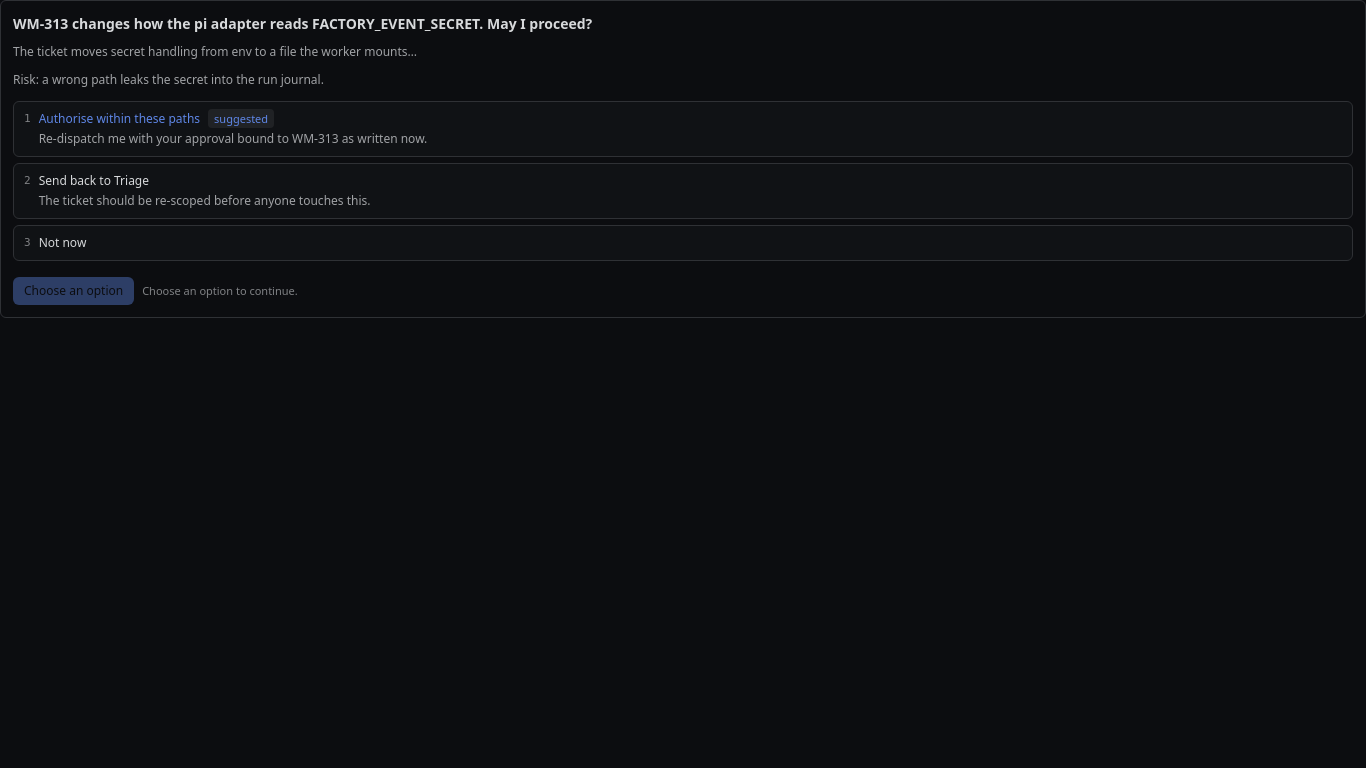
Test case: DecisionCard › keeps submit disabled until confirmation and at least one path are chosen
Click the button that starts with "Authorise within these paths" at (119, 118), box [13,101,1353,157]
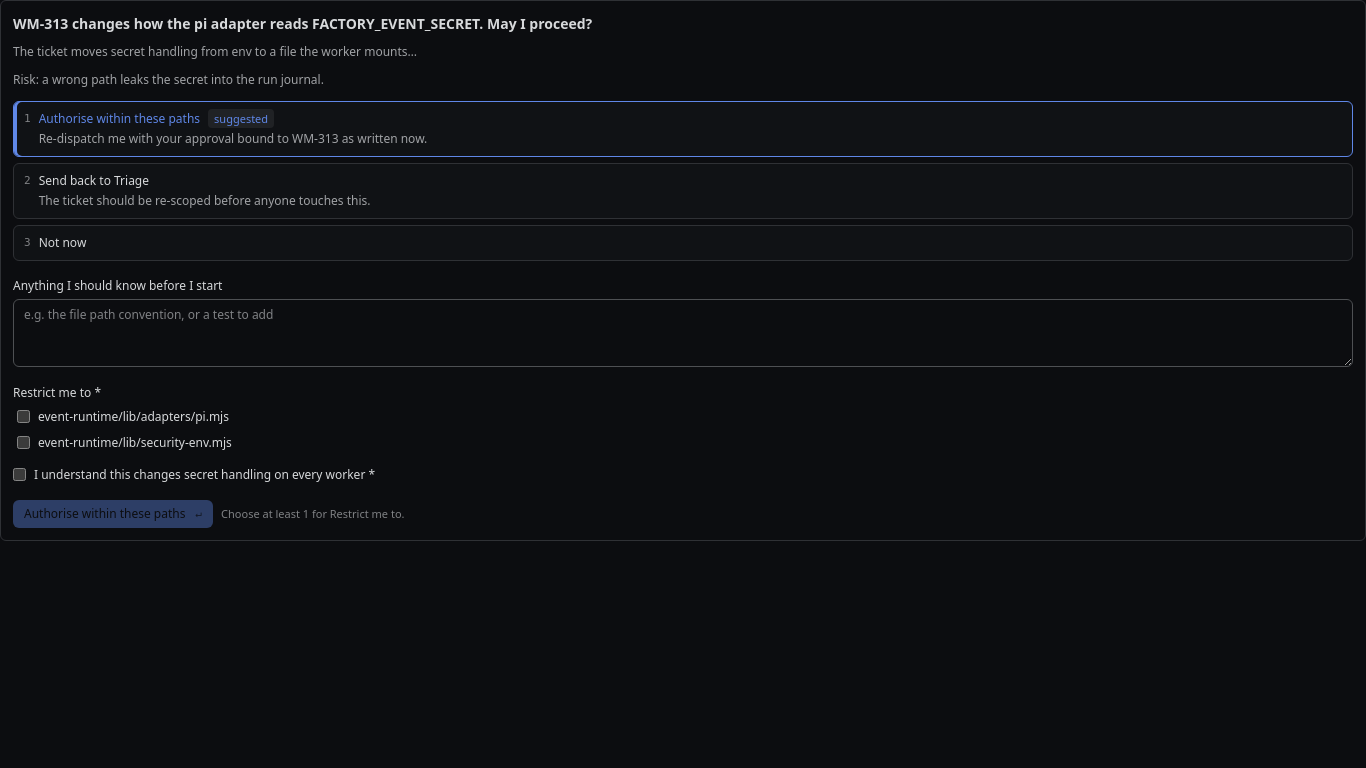
Expected: the button "Authorise within these paths ↵" is disabled, [13,500,213,528]
Click the checkbox labelled "event-runtime/lib/adapters/pi.mjs" at (24, 416), box [17,410,30,423]
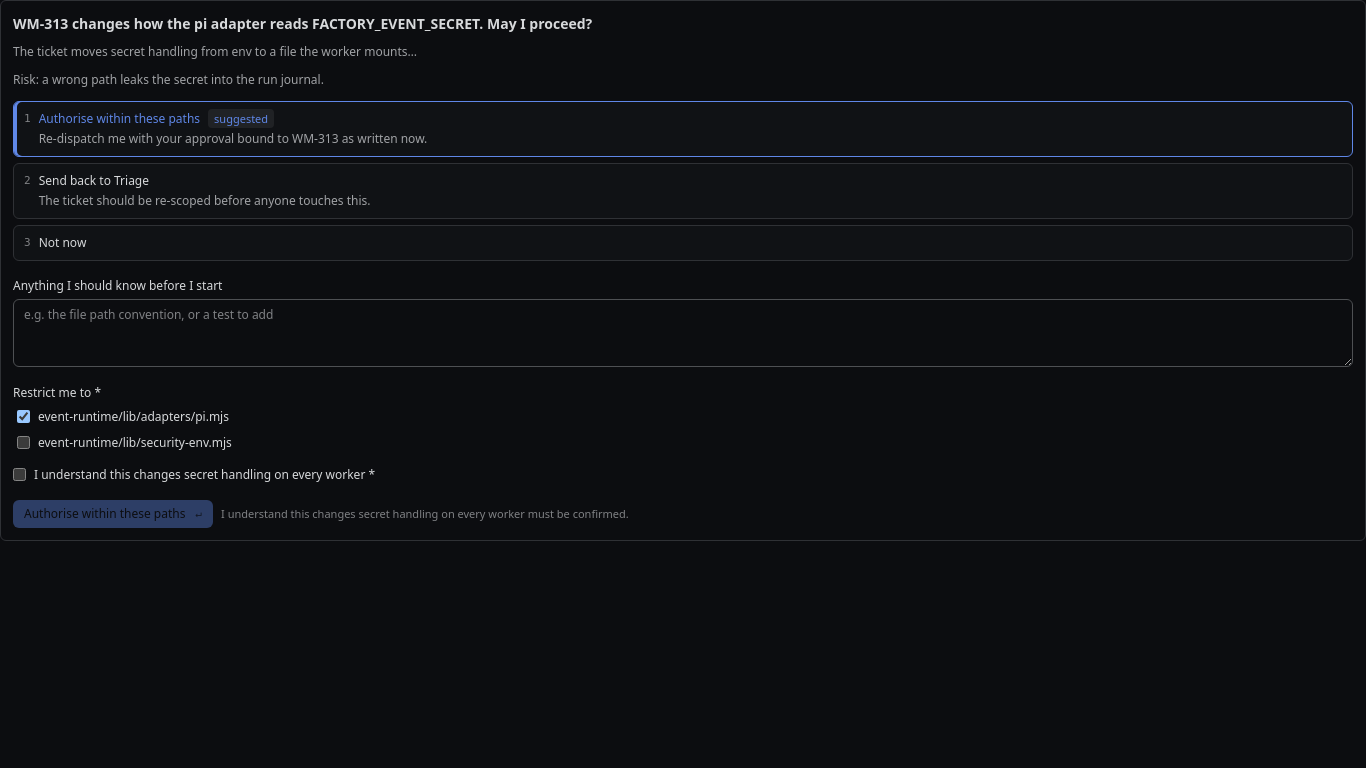
Expected: the button "Authorise within these paths ↵" is disabled, [13,500,213,528]
Click the checkbox labelled "I understand this changes secret handling on every worker *" at (20, 474), box [13,468,26,481]
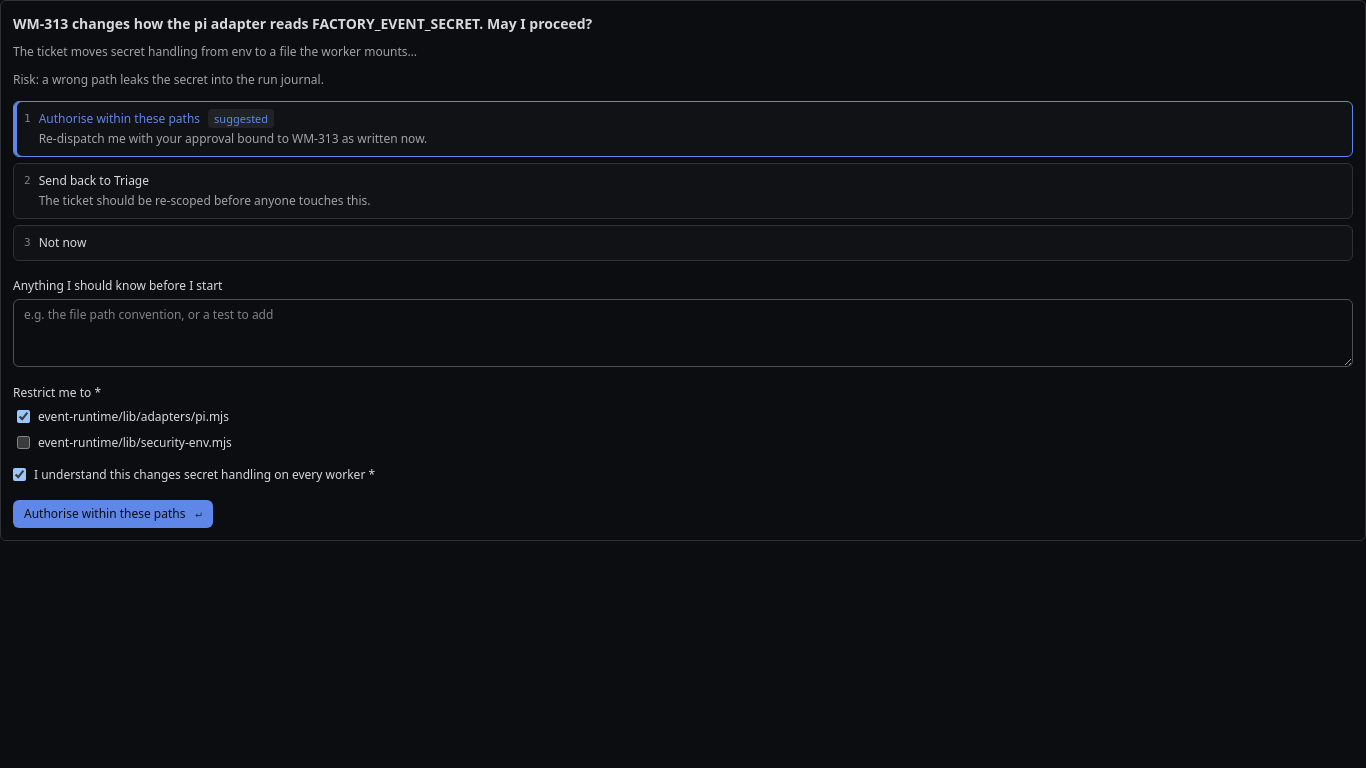
Now the button "Authorise within these paths ↵" is enabled, box [13,500,213,528]
